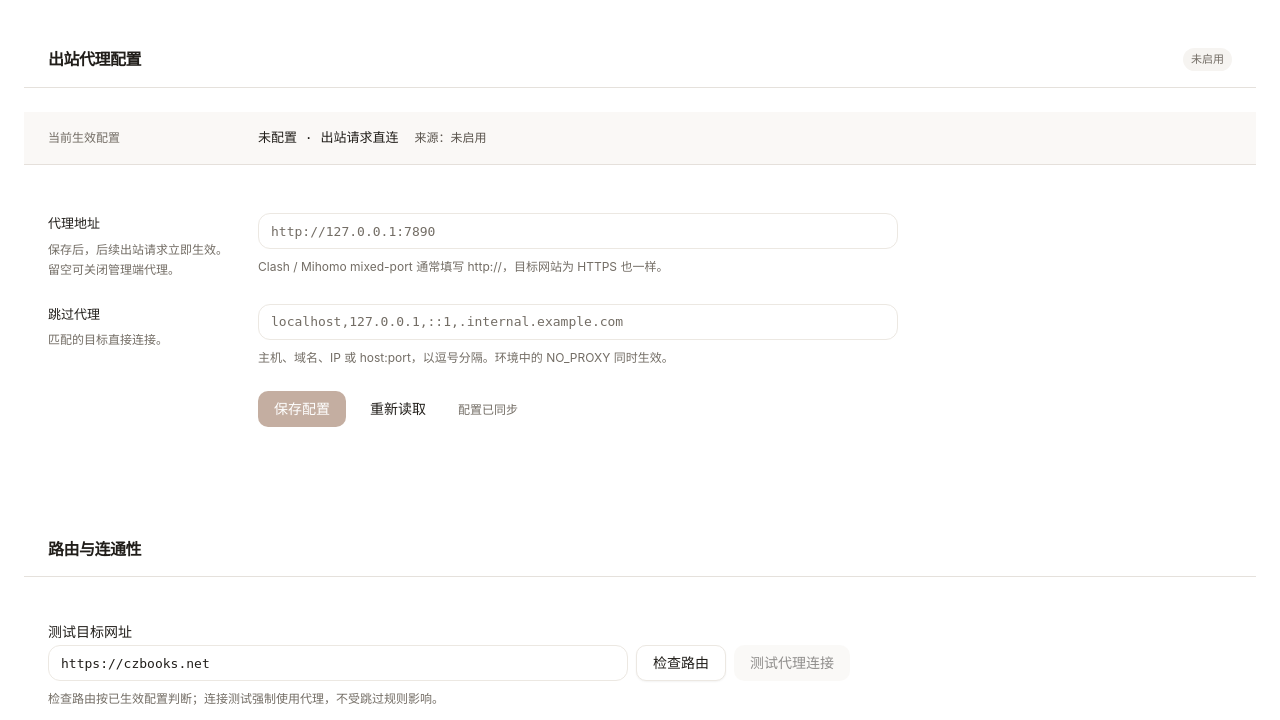
代理设置的生效配置与诊断状态 › 未启用时允许检查路由，禁用强制代理连接测试
The width and height of the screenshot is (1280, 720).
Expected: the field labelled "代理地址" is enabled, [258,213,898,249]
Expected: the button "测试代理连接" is disabled, [734,645,850,681]
Click the button "检查路由": (681, 663) [636,645,726,681]
(page scrolled)
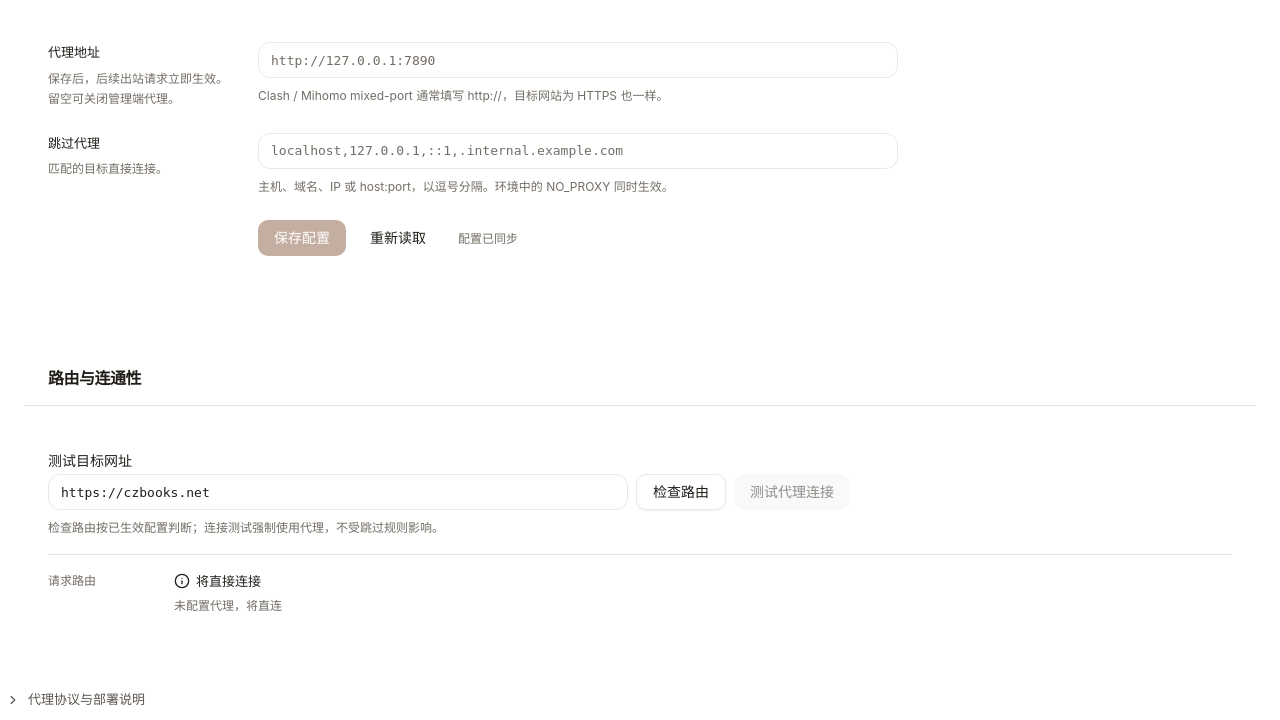
Result: the text "将直接连接" is shown at [174,573,261,590]
